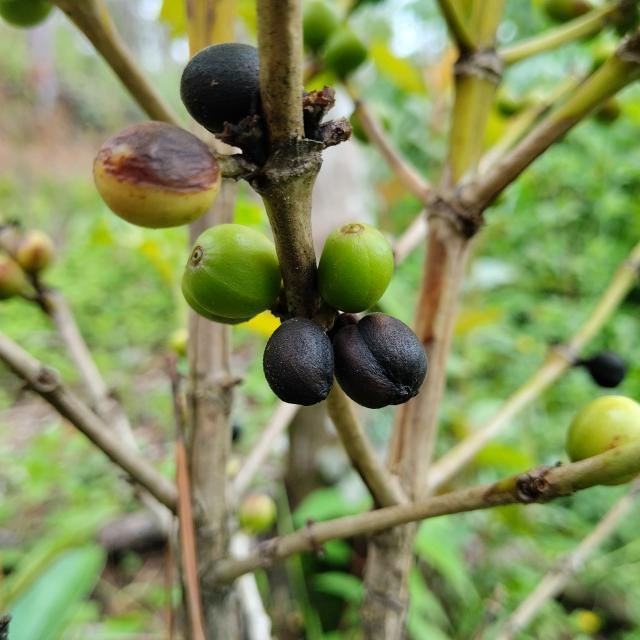green: (185, 224, 281, 319), (318, 222, 394, 313), (567, 396, 640, 463), (181, 273, 255, 325)
red: (93, 120, 221, 228), (333, 313, 428, 409), (180, 42, 260, 133), (263, 318, 334, 406)
